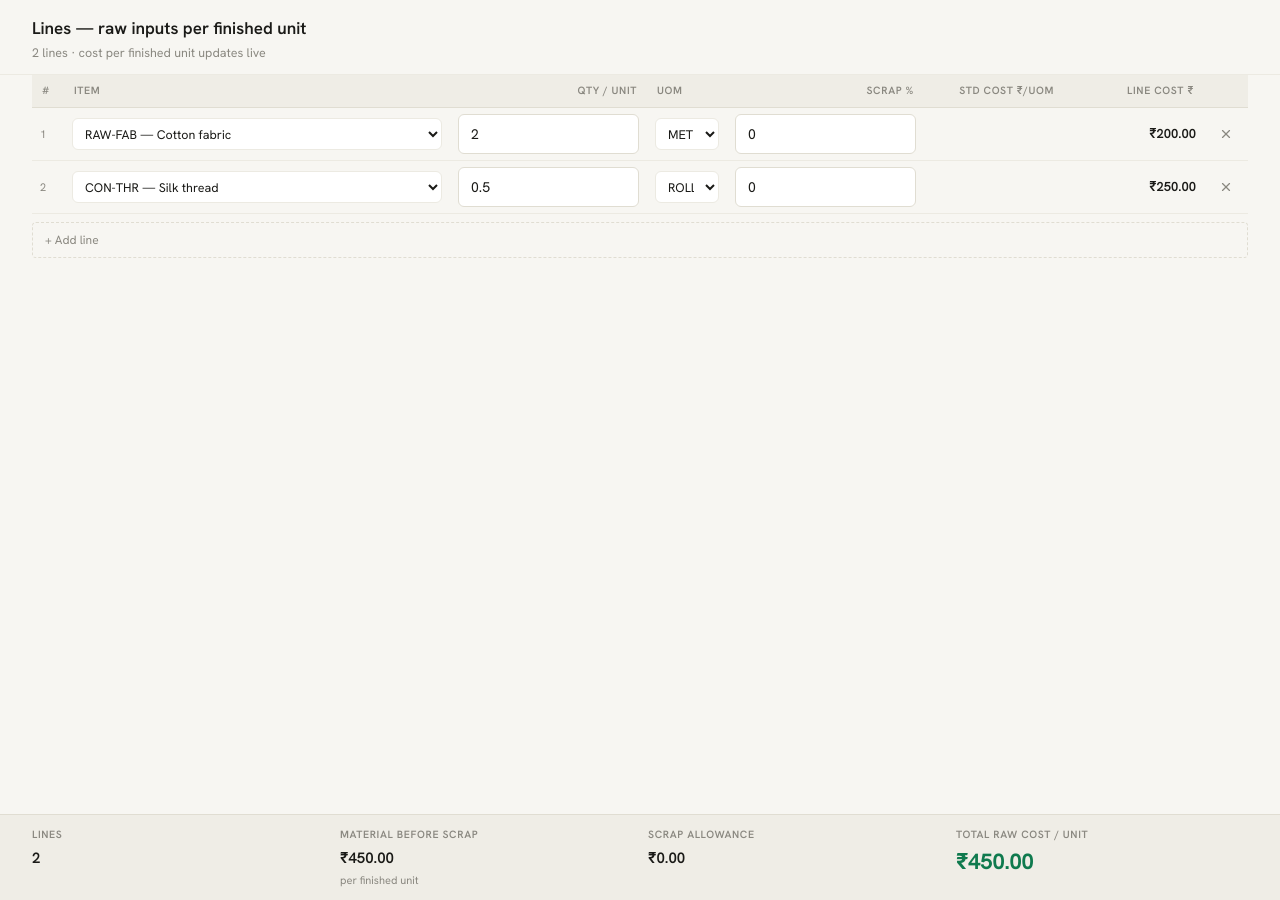
BomLinesEditor › removes a line via the row delete button
The image size is (1280, 900).
Expected: the number of rows with test id "bom-line-row" is 2, [32, 108, 1248, 160]; [32, 160, 1248, 214]
Click the button named "remove line 2".
click(1226, 187)  # box [1212, 173, 1240, 201]
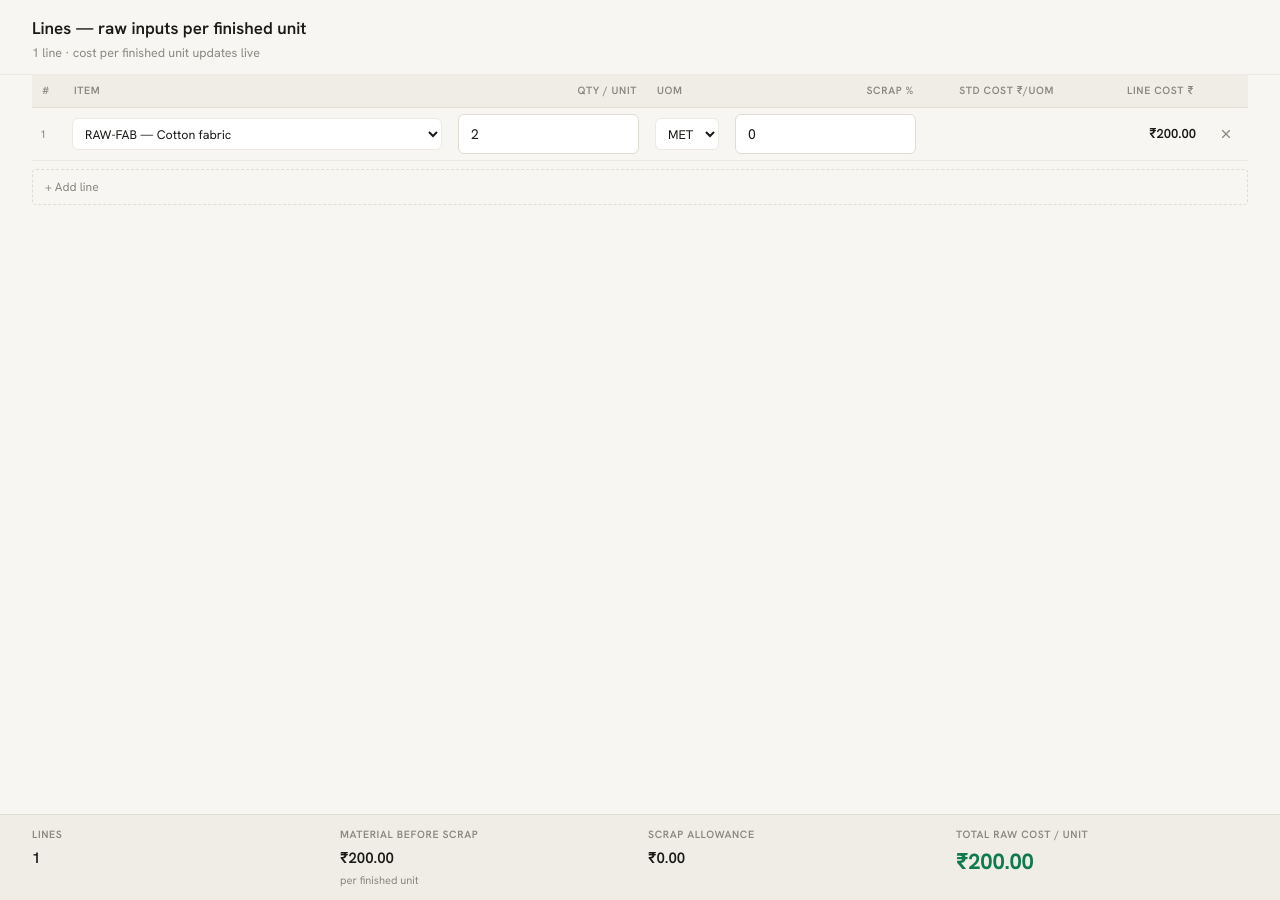
Expected: the number of rows with test id "bom-line-row" is 1, [32, 108, 1248, 160]
